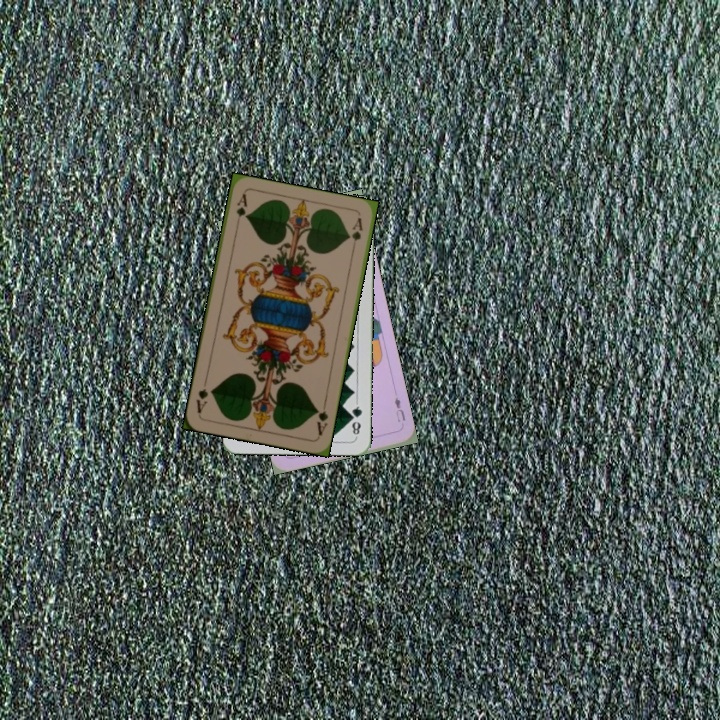EU: (390, 393, 408, 425)
G8: (347, 399, 365, 439)
GA: (312, 398, 331, 438), (232, 190, 250, 230)
